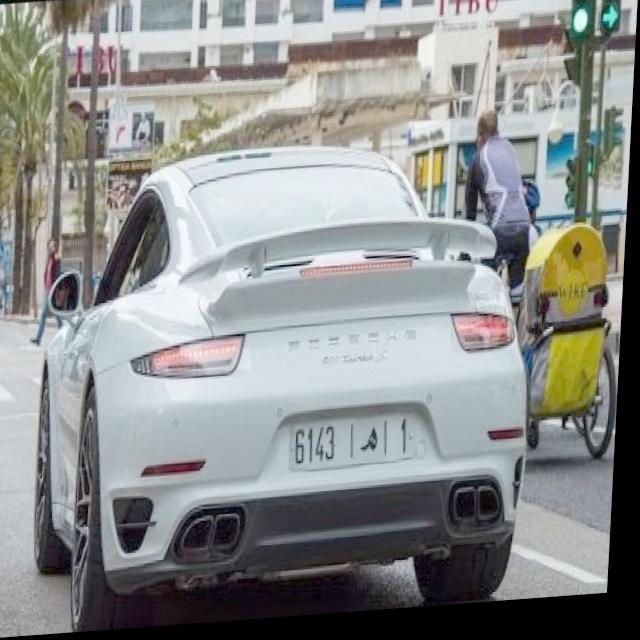License-Plate: (295, 420, 420, 475)
